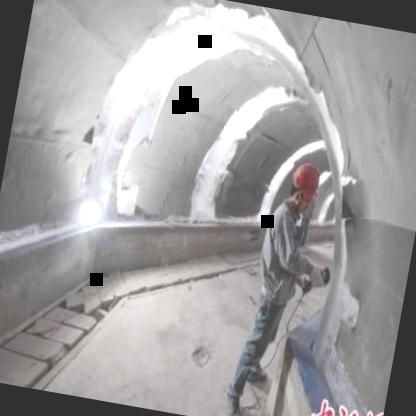helmet: (284, 154, 326, 218)
